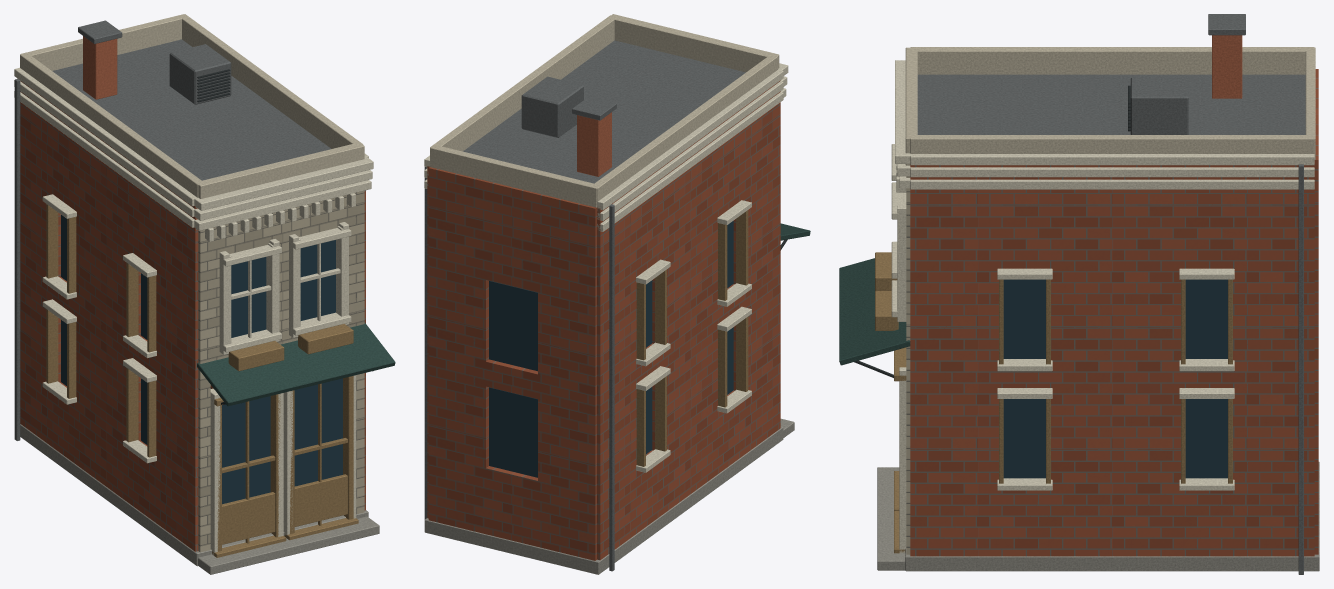
File: BUSS8_lod1.glb
3 views of the same model, side by side, from view 1: azimuth 30°, elevation 25°; view 2: azimuth 150°, elevation 25°; view 3: azimuth 270°, elevation 25° (orthographic). The views are drawn at different scales.
Parts seen in each view (by area): view 1: BUSS8_LOD1; view 2: BUSS8_LOD1; view 3: BUSS8_LOD1.
Boxes of the visible parts, x1,y1,x2,y2 form: BUSS8_LOD1: (14,14,395,574); BUSS8_LOD1: (424,14,810,574); BUSS8_LOD1: (839,14,1319,574).
Size of the model in its own units: 3.71 by 7.85 by 7.13.
12 materials, 10 textured.
